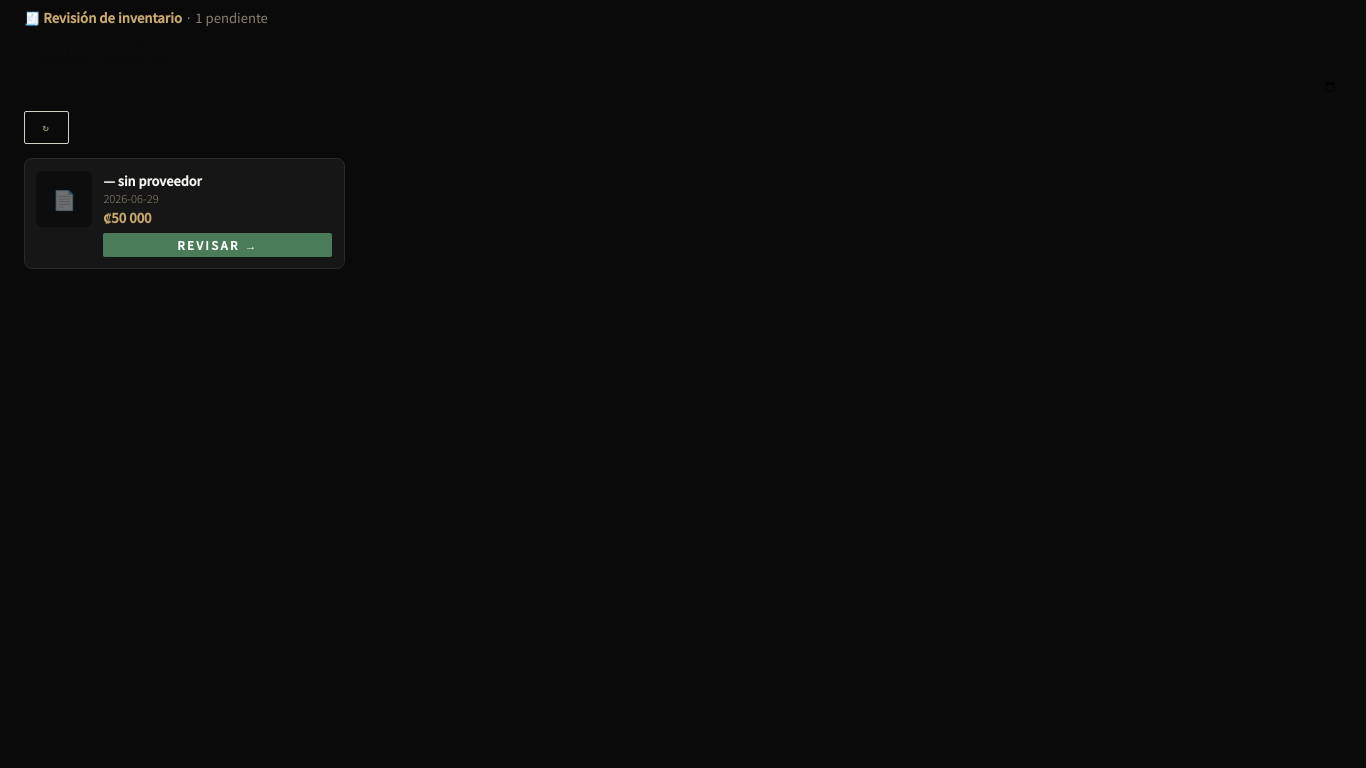
Test case: InvRevision — adjuntar factura (F4.3b) › una tarea SIN factura ofrece "Adjuntar factura" y muestra quién registró el pago
Click the button "Revisar →".
click(218, 244)  # box [103,232,332,256]
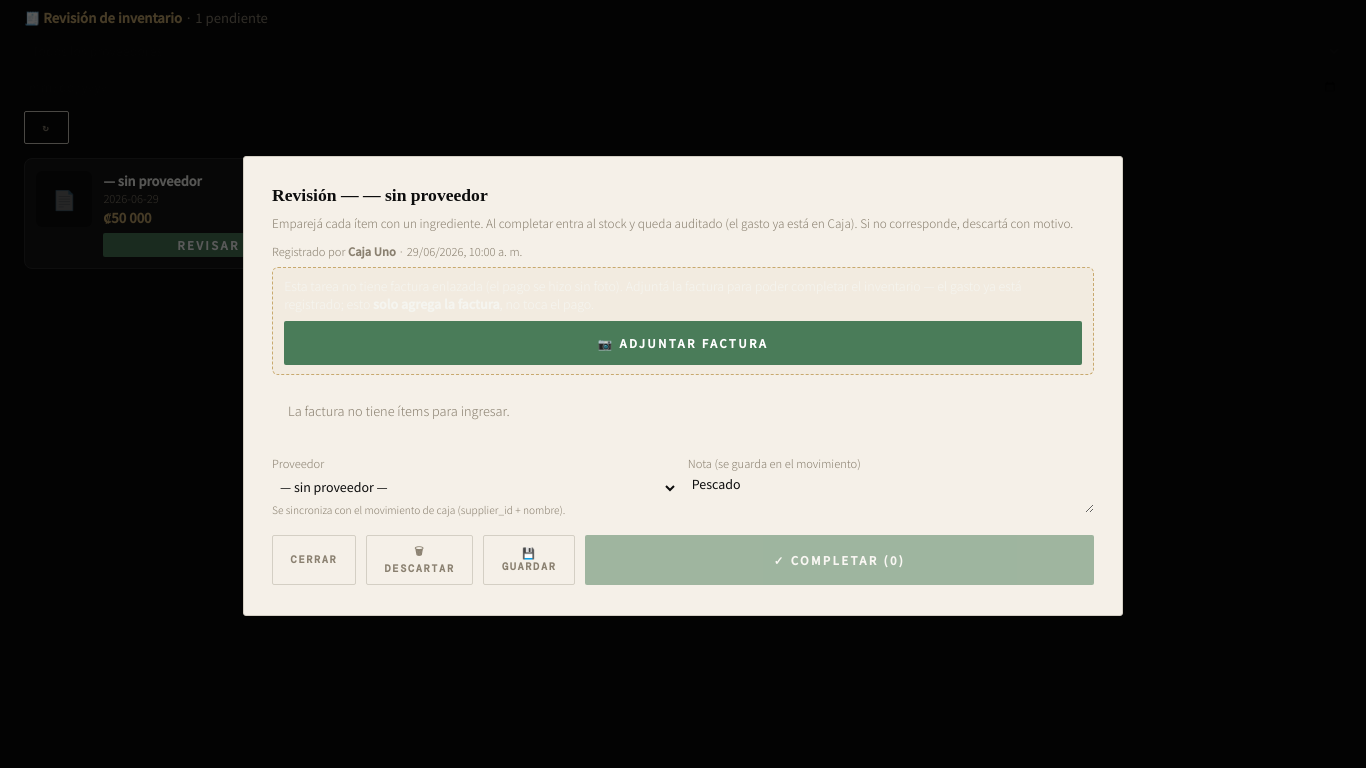
Check: the button "📷 Adjuntar factura" is shown, box [284,321,1082,365]
Check: the text "Registrado por Caja Uno · 29/06/2026, 10:00 a. m." is shown, box [272,243,522,259]
Check: the text "Caja Uno" is shown, box [348,243,396,259]
